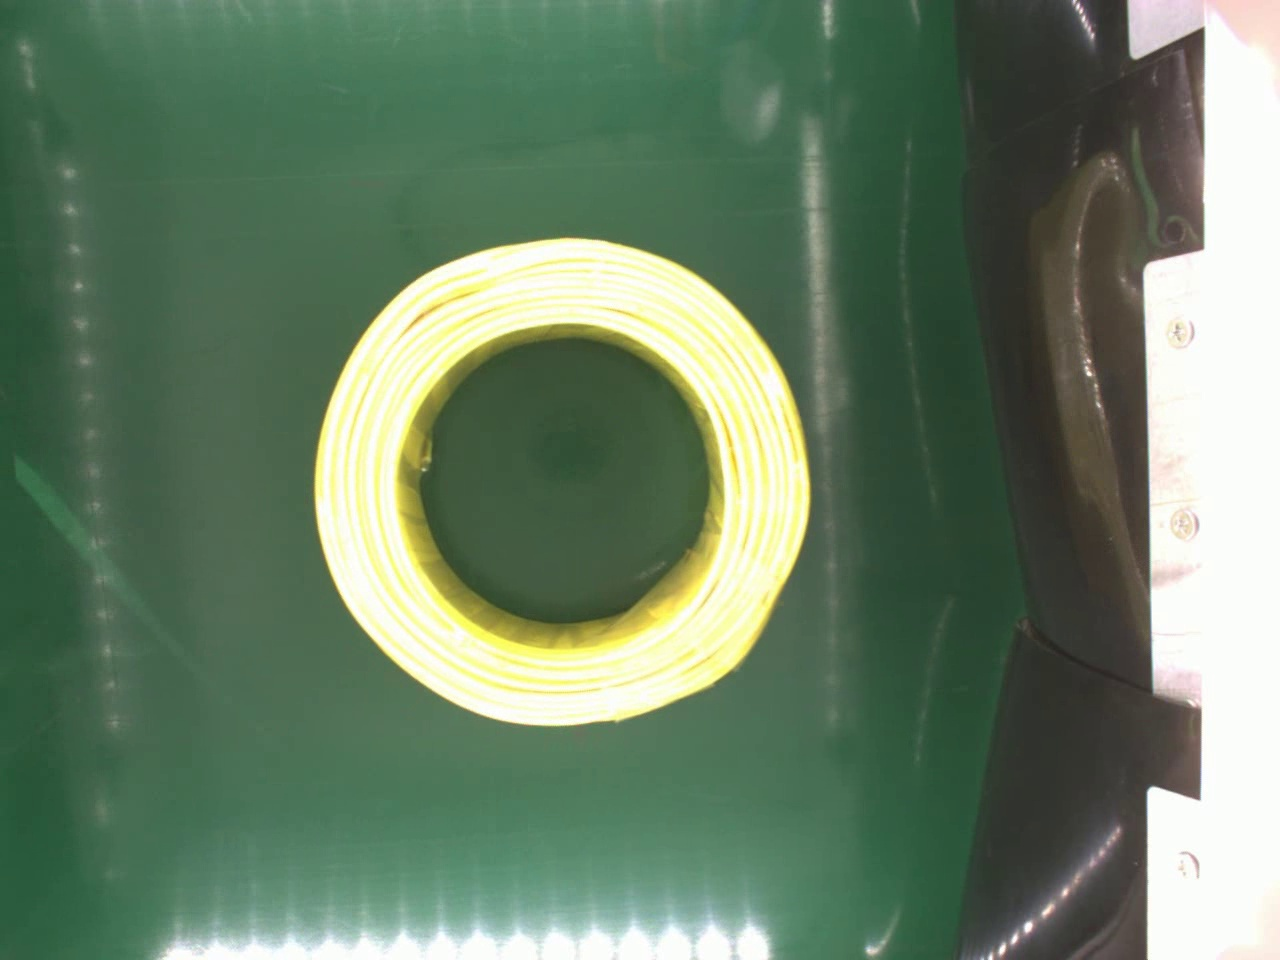yellow: (311, 235, 815, 733)
